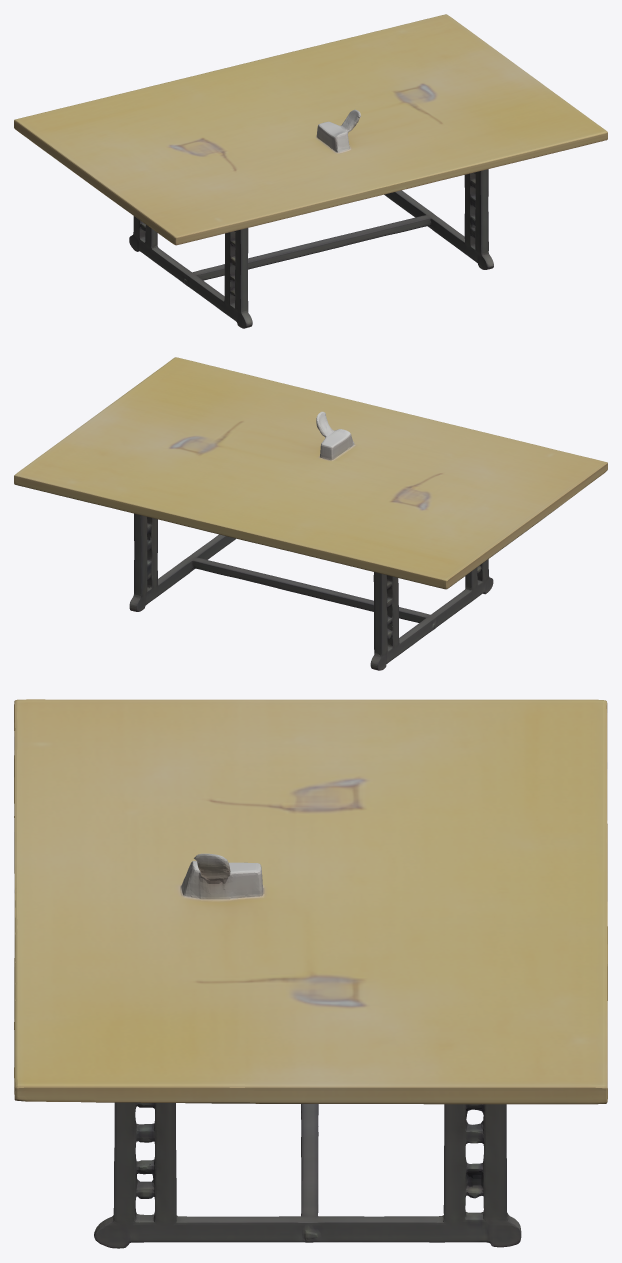
The model's file is ours.glb.
The picture shows the model from 3 angles, top to bottom: view 1: azimuth 30°, elevation 25°; view 2: azimuth 150°, elevation 25°; view 3: azimuth 270°, elevation 25°; orthographic projection. The views are drawn at different scales.
Visible parts, largest first — view 1: world; view 2: world; view 3: world.
Boxes of the visible parts, box(x1,y1,x2,y2) form: world: box(14, 14, 607, 328); world: box(14, 357, 607, 670); world: box(14, 699, 607, 1248).
Size of the model in its own units: 1 by 0.3626 by 0.6486.
